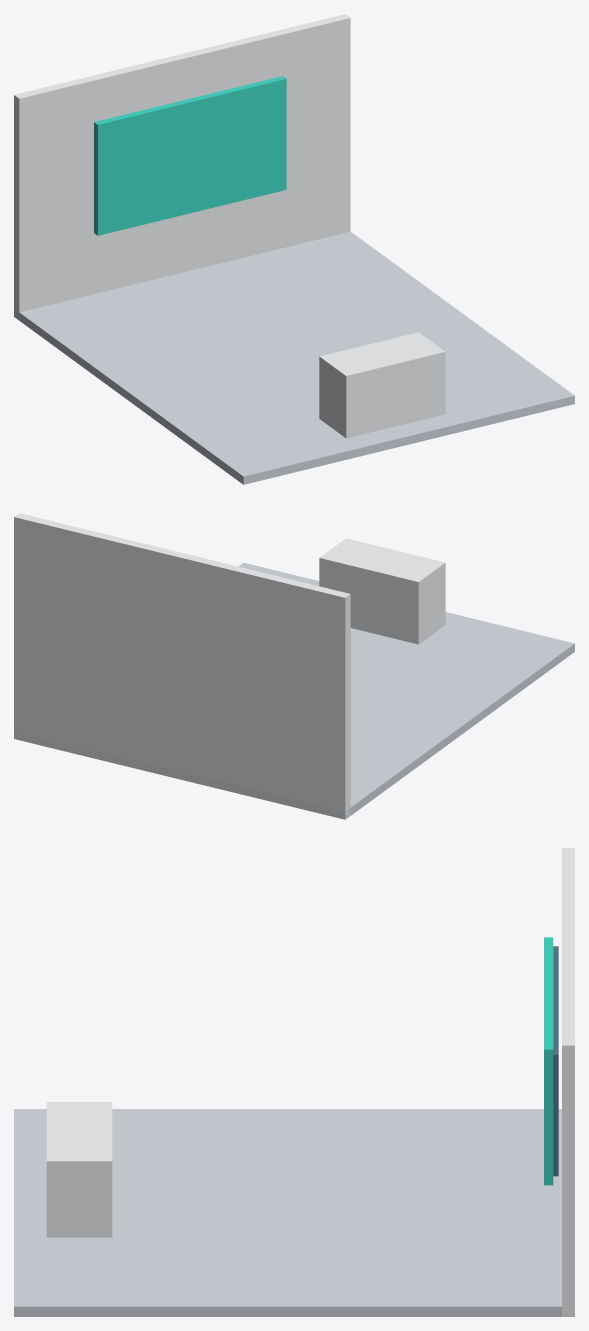
The picture shows the model from 3 angles, top to bottom: view 1: azimuth 30°, elevation 25°; view 2: azimuth 150°, elevation 25°; view 3: azimuth 270°, elevation 25°; orthographic projection. The views are drawn at different scales.
Visible parts, largest first — view 1: Exhibition Booth Concept; view 2: Exhibition Booth Concept; view 3: Exhibition Booth Concept.
Boxes of the visible parts, x1,y1,x2,y2 form: Exhibition Booth Concept: [14, 14, 574, 484]; Exhibition Booth Concept: [14, 513, 574, 819]; Exhibition Booth Concept: [14, 848, 574, 1316].
Bounding box in the file's own units: 5 × 3.2 × 6.
